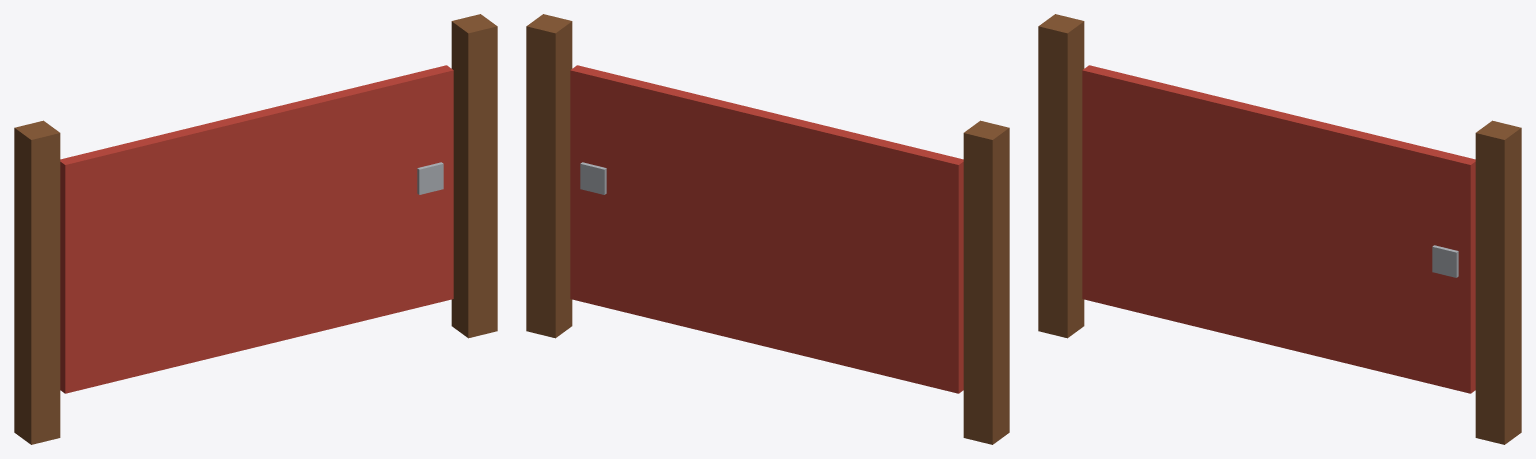
File: gate.glb
The picture shows the model from 3 angles, left to right: view 1: azimuth 30°, elevation 25°; view 2: azimuth 150°, elevation 25°; view 3: azimuth 330°, elevation 25°; orthographic projection.
Visible parts, largest first — view 1: gate; view 2: gate; view 3: gate.
Part boxes in pixels (bbox=[...]): gate: bbox=[14, 14, 497, 444]; gate: bbox=[526, 14, 1009, 444]; gate: bbox=[1038, 14, 1521, 444].
Bounding box in the file's own units: 1.92 × 1.2 × 0.12.
